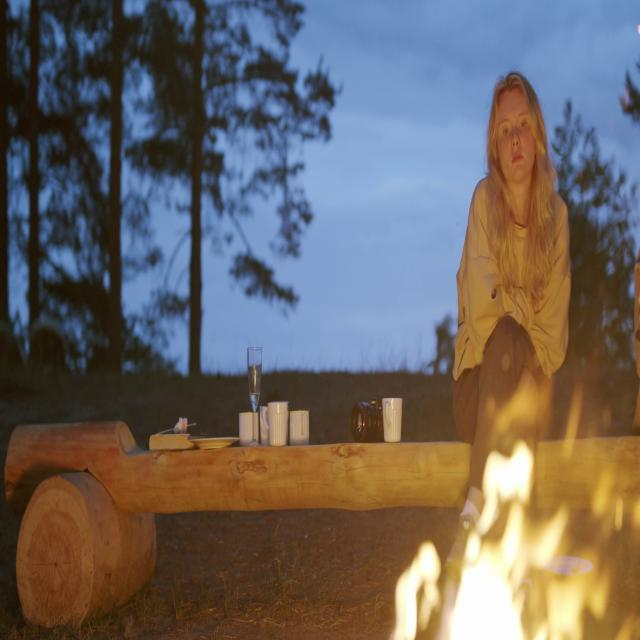Fire: (374, 424, 639, 640)
